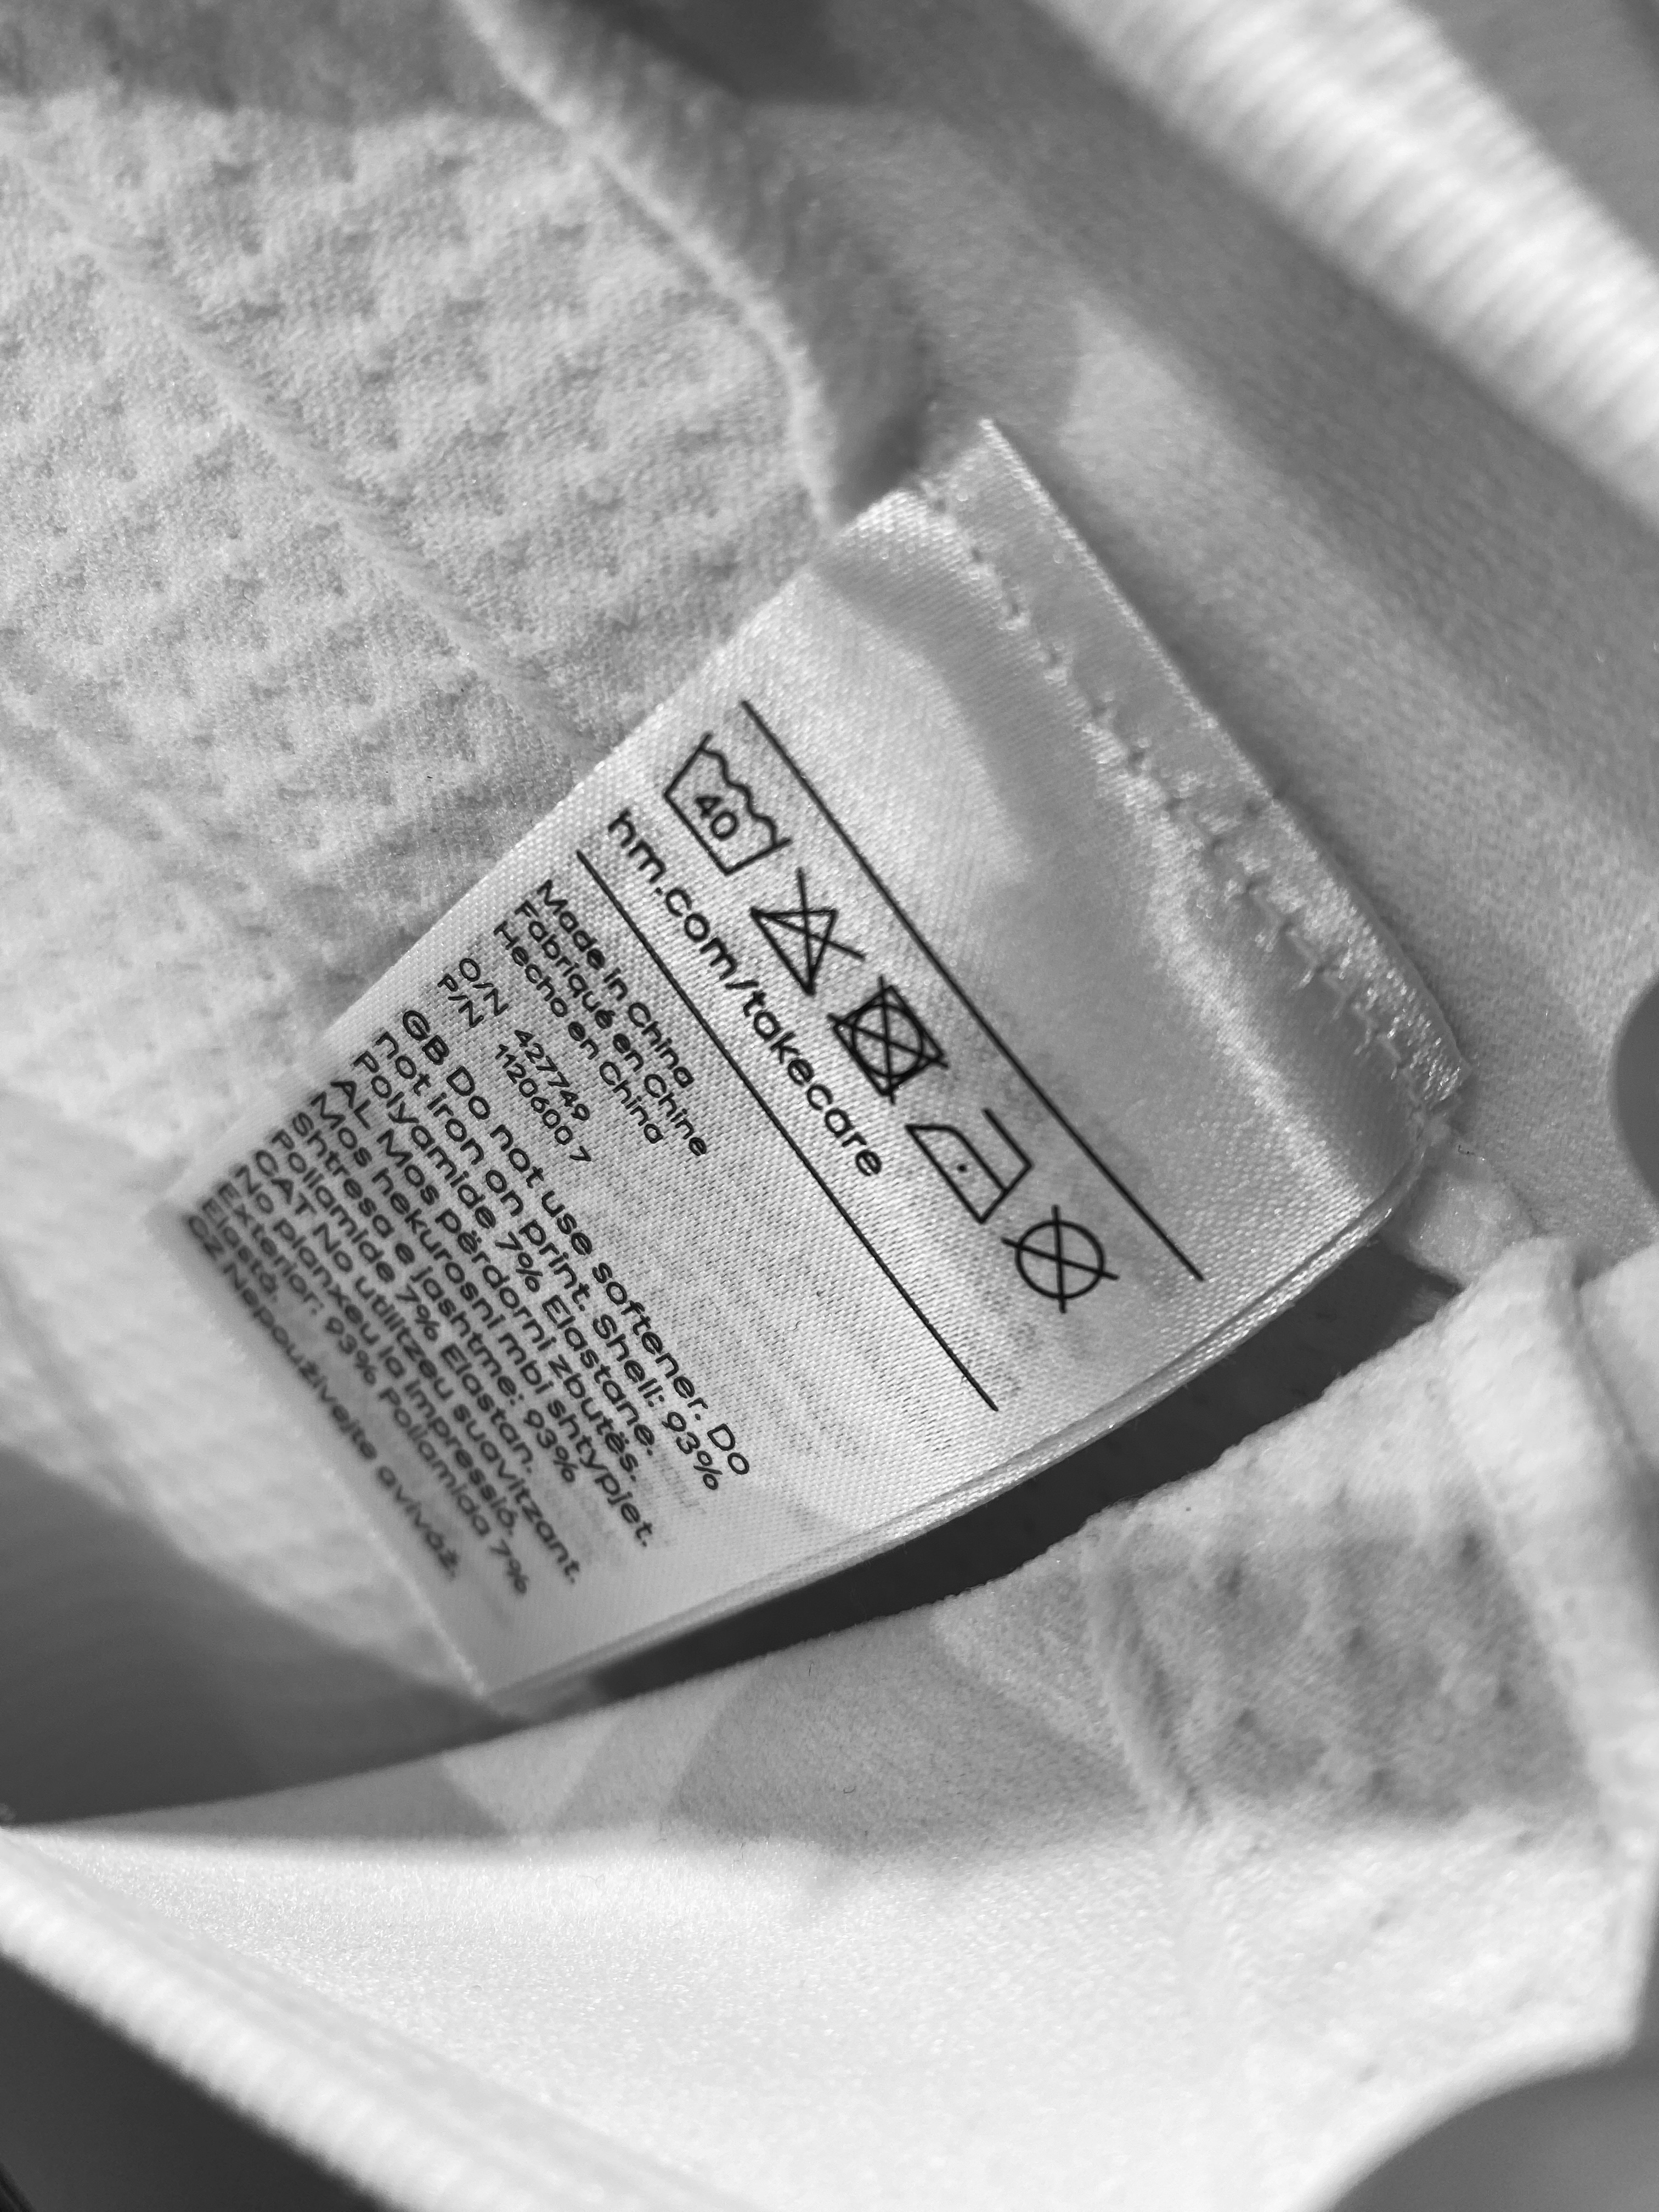icon: (653, 726, 802, 881), (894, 1097, 1040, 1226), (823, 968, 955, 1103), (749, 864, 871, 1001), (999, 1198, 1129, 1318)
